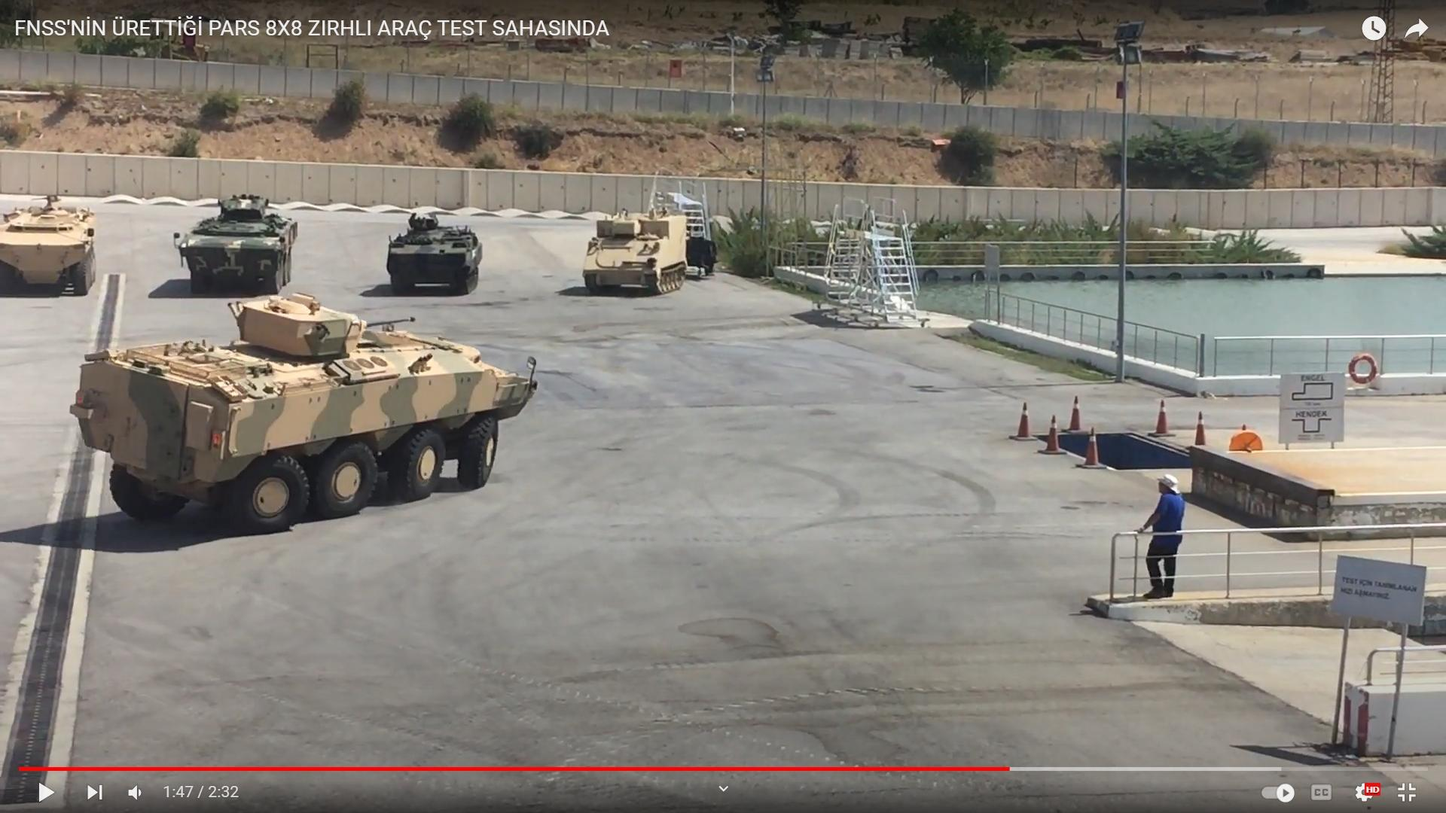armored_car: (70, 281, 540, 534), (172, 196, 299, 294), (0, 198, 104, 295), (583, 207, 692, 297), (383, 211, 489, 301)
